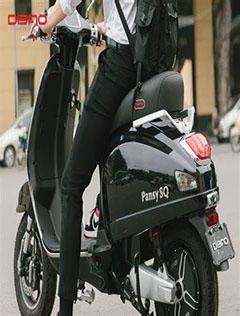motorcycle: (5, 0, 240, 316)
